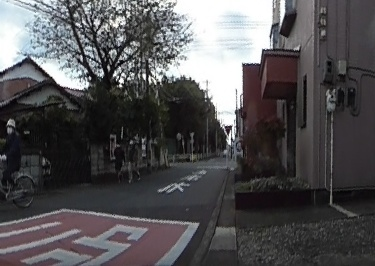person: (125, 136, 143, 181), (111, 139, 126, 177)
